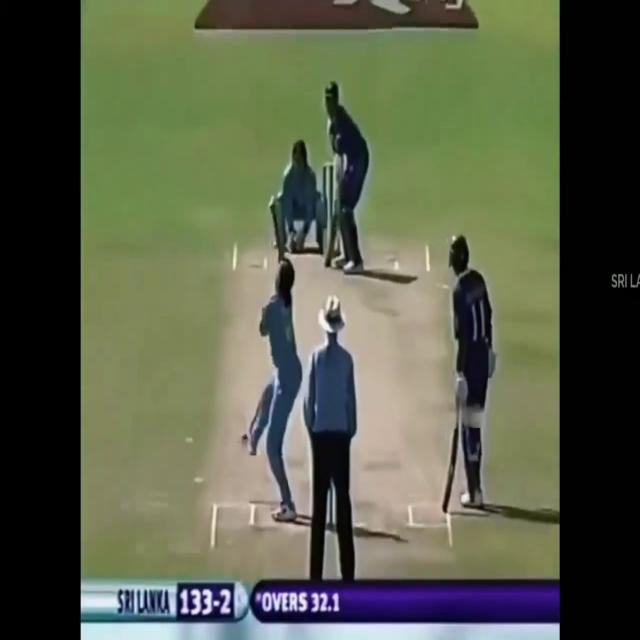Batsman: (311, 74, 373, 283)
